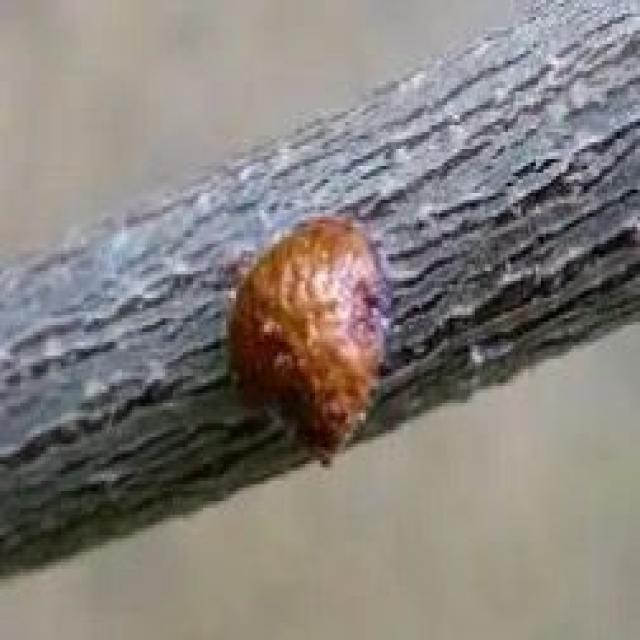Black Scale: (229, 217, 386, 464)
